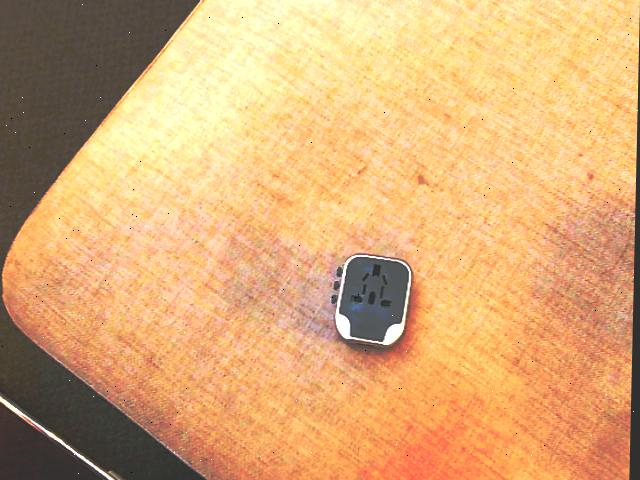adapter: (331, 253, 414, 347)
